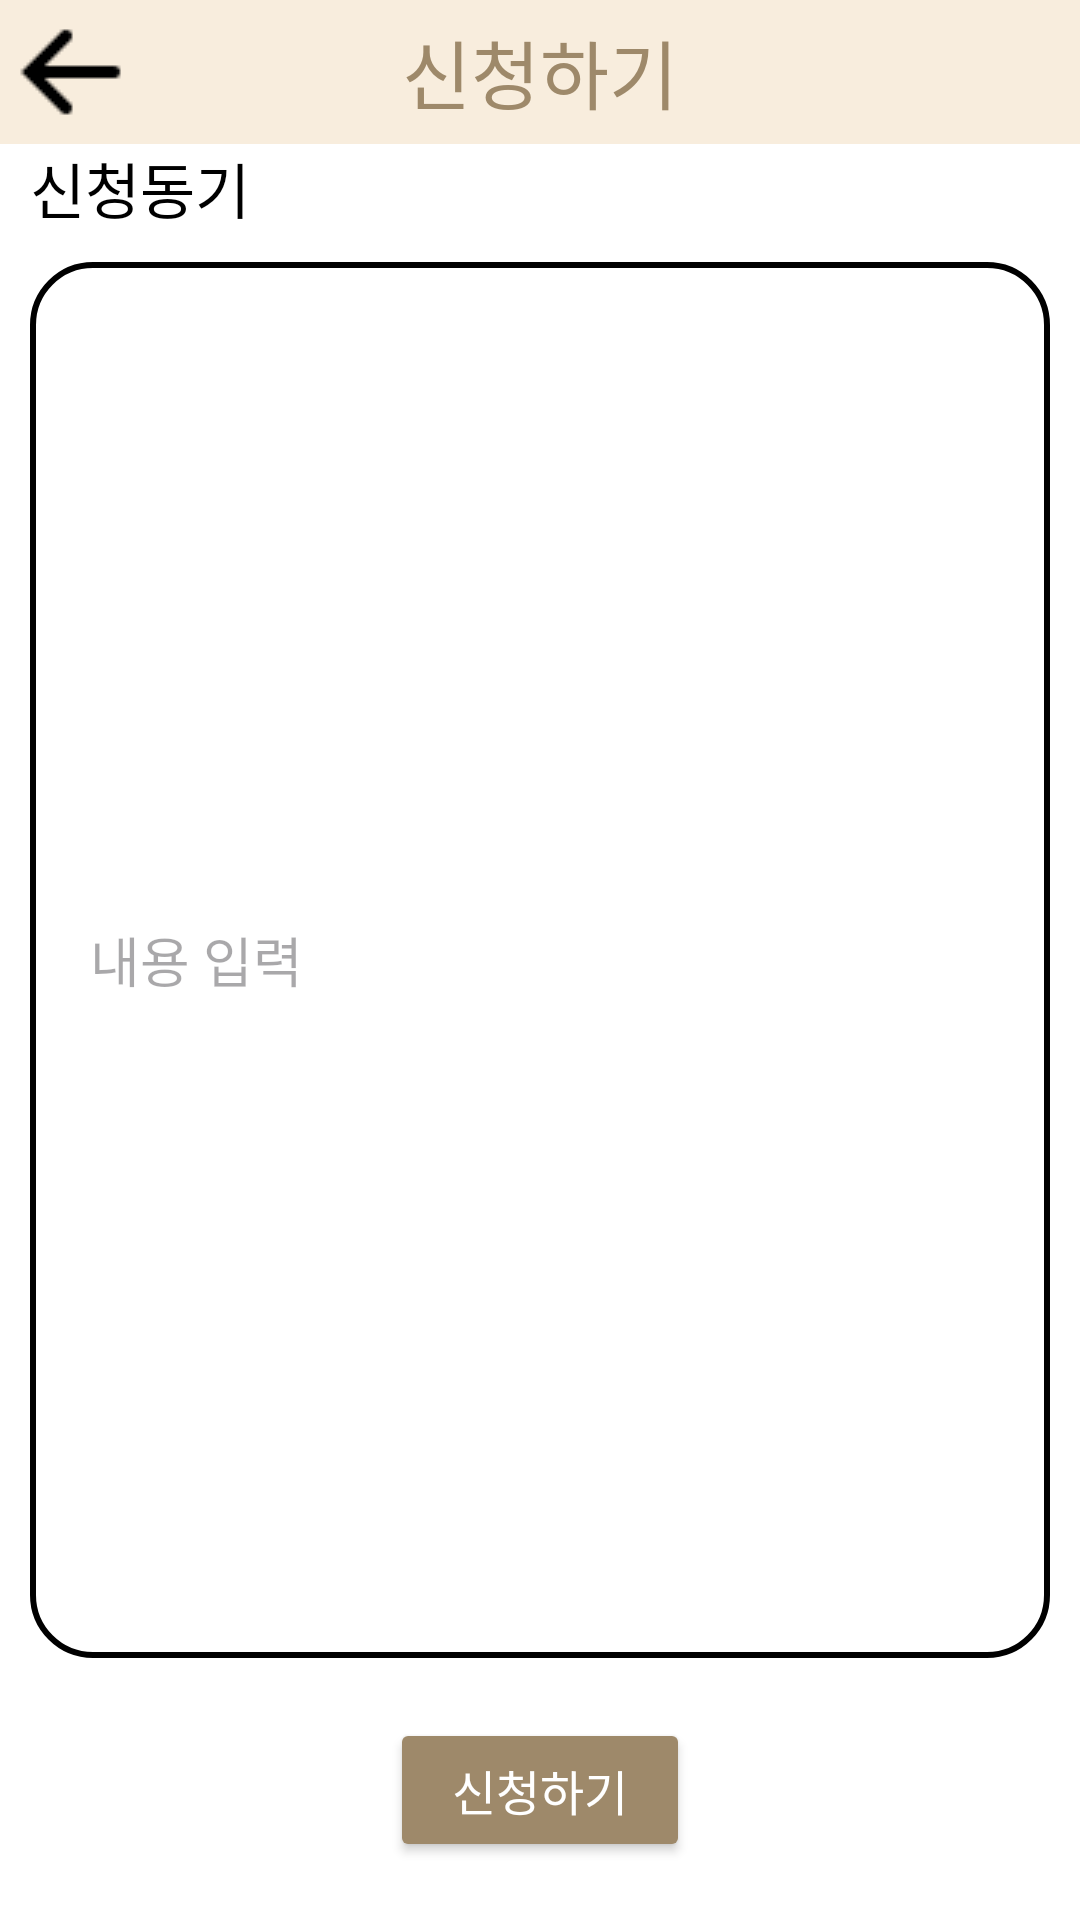

Icon bounding boxes for this 1080 × 1920 phone screenshot, format (x1, y1, x2, y2):
back: (20, 29, 121, 115)
